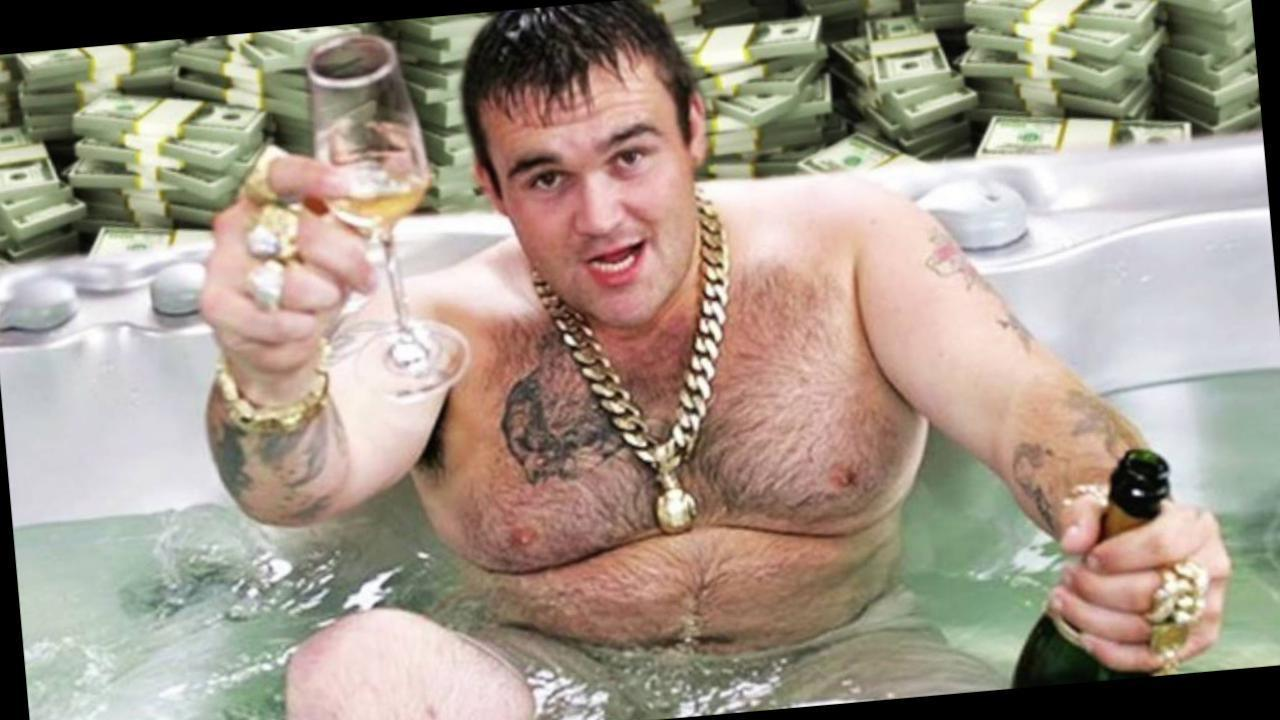Drunk: (506, 89, 700, 327)
